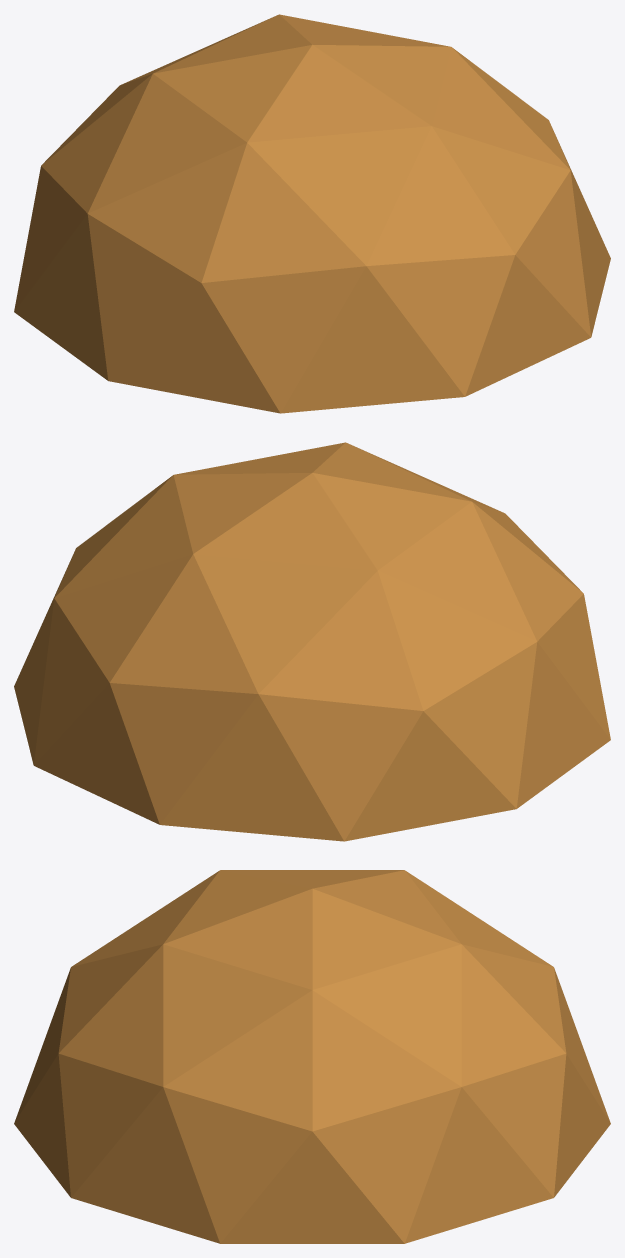
File: SM_BurgerBun_Top.fbx
3 views of the same model, one above another, from view 1: azimuth 30°, elevation 25°; view 2: azimuth 150°, elevation 25°; view 3: azimuth 270°, elevation 25° (orthographic). The views are drawn at different scales.
Parts seen in each view (by area): view 1: burger bun top.002; view 2: burger bun top.002; view 3: burger bun top.002.
Boxes of the visible parts, left/top/right/bottom form: burger bun top.002: left=14, top=14, right=610, bottom=413; burger bun top.002: left=14, top=442, right=610, bottom=841; burger bun top.002: left=14, top=870, right=610, bottom=1243.
Bounding box in the file's own units: 38.06 × 17.4 × 40.02.
